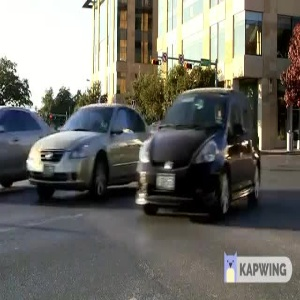car: (128, 87, 264, 216), (22, 99, 150, 201)
